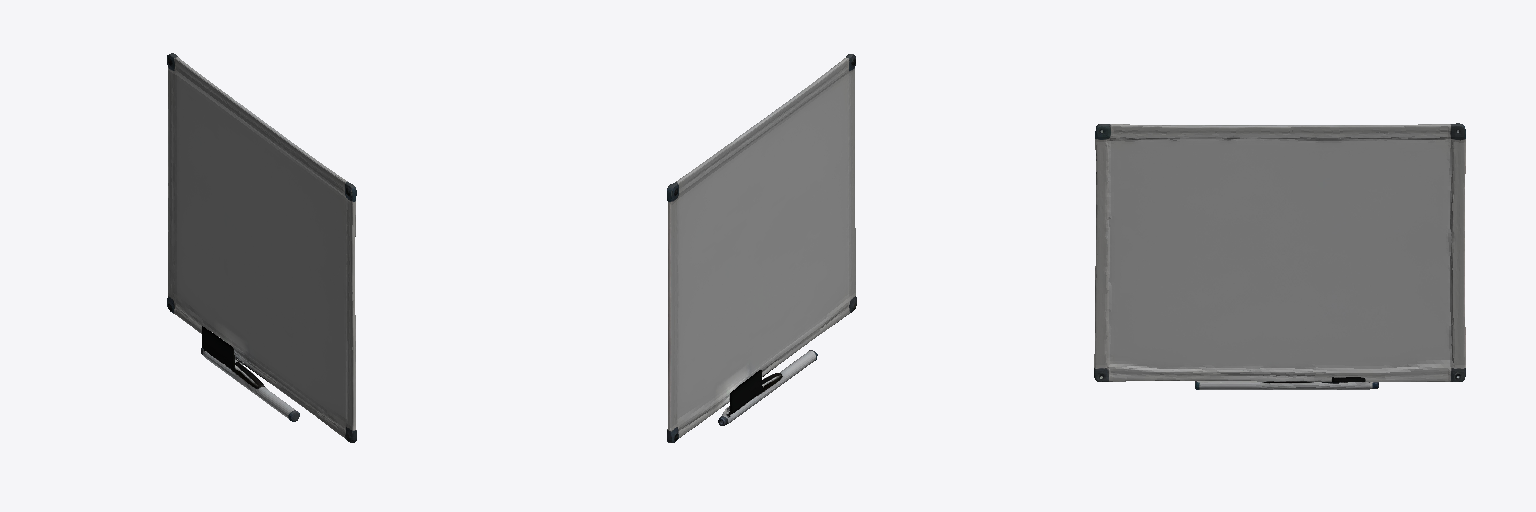
The picture shows the model from 3 angles: view 1: azimuth 30°, elevation 25°; view 2: azimuth 150°, elevation 25°; view 3: azimuth 270°, elevation 25°; orthographic projection.
Visible parts, largest first — view 1: tripo_node_362fe92a-99ec-404e-95a1-777c69ee008a; view 2: tripo_node_362fe92a-99ec-404e-95a1-777c69ee008a; view 3: tripo_node_362fe92a-99ec-404e-95a1-777c69ee008a.
Boxes of the visible parts, <box> form: tripo_node_362fe92a-99ec-404e-95a1-777c69ee008a: <box>167,53,356,442</box>; tripo_node_362fe92a-99ec-404e-95a1-777c69ee008a: <box>667,54,856,442</box>; tripo_node_362fe92a-99ec-404e-95a1-777c69ee008a: <box>1094,123,1465,389</box>.
Bounding box in the file's own units: 0.0571 × 0.8002 × 0.9998.
1 materials, 1 textured.